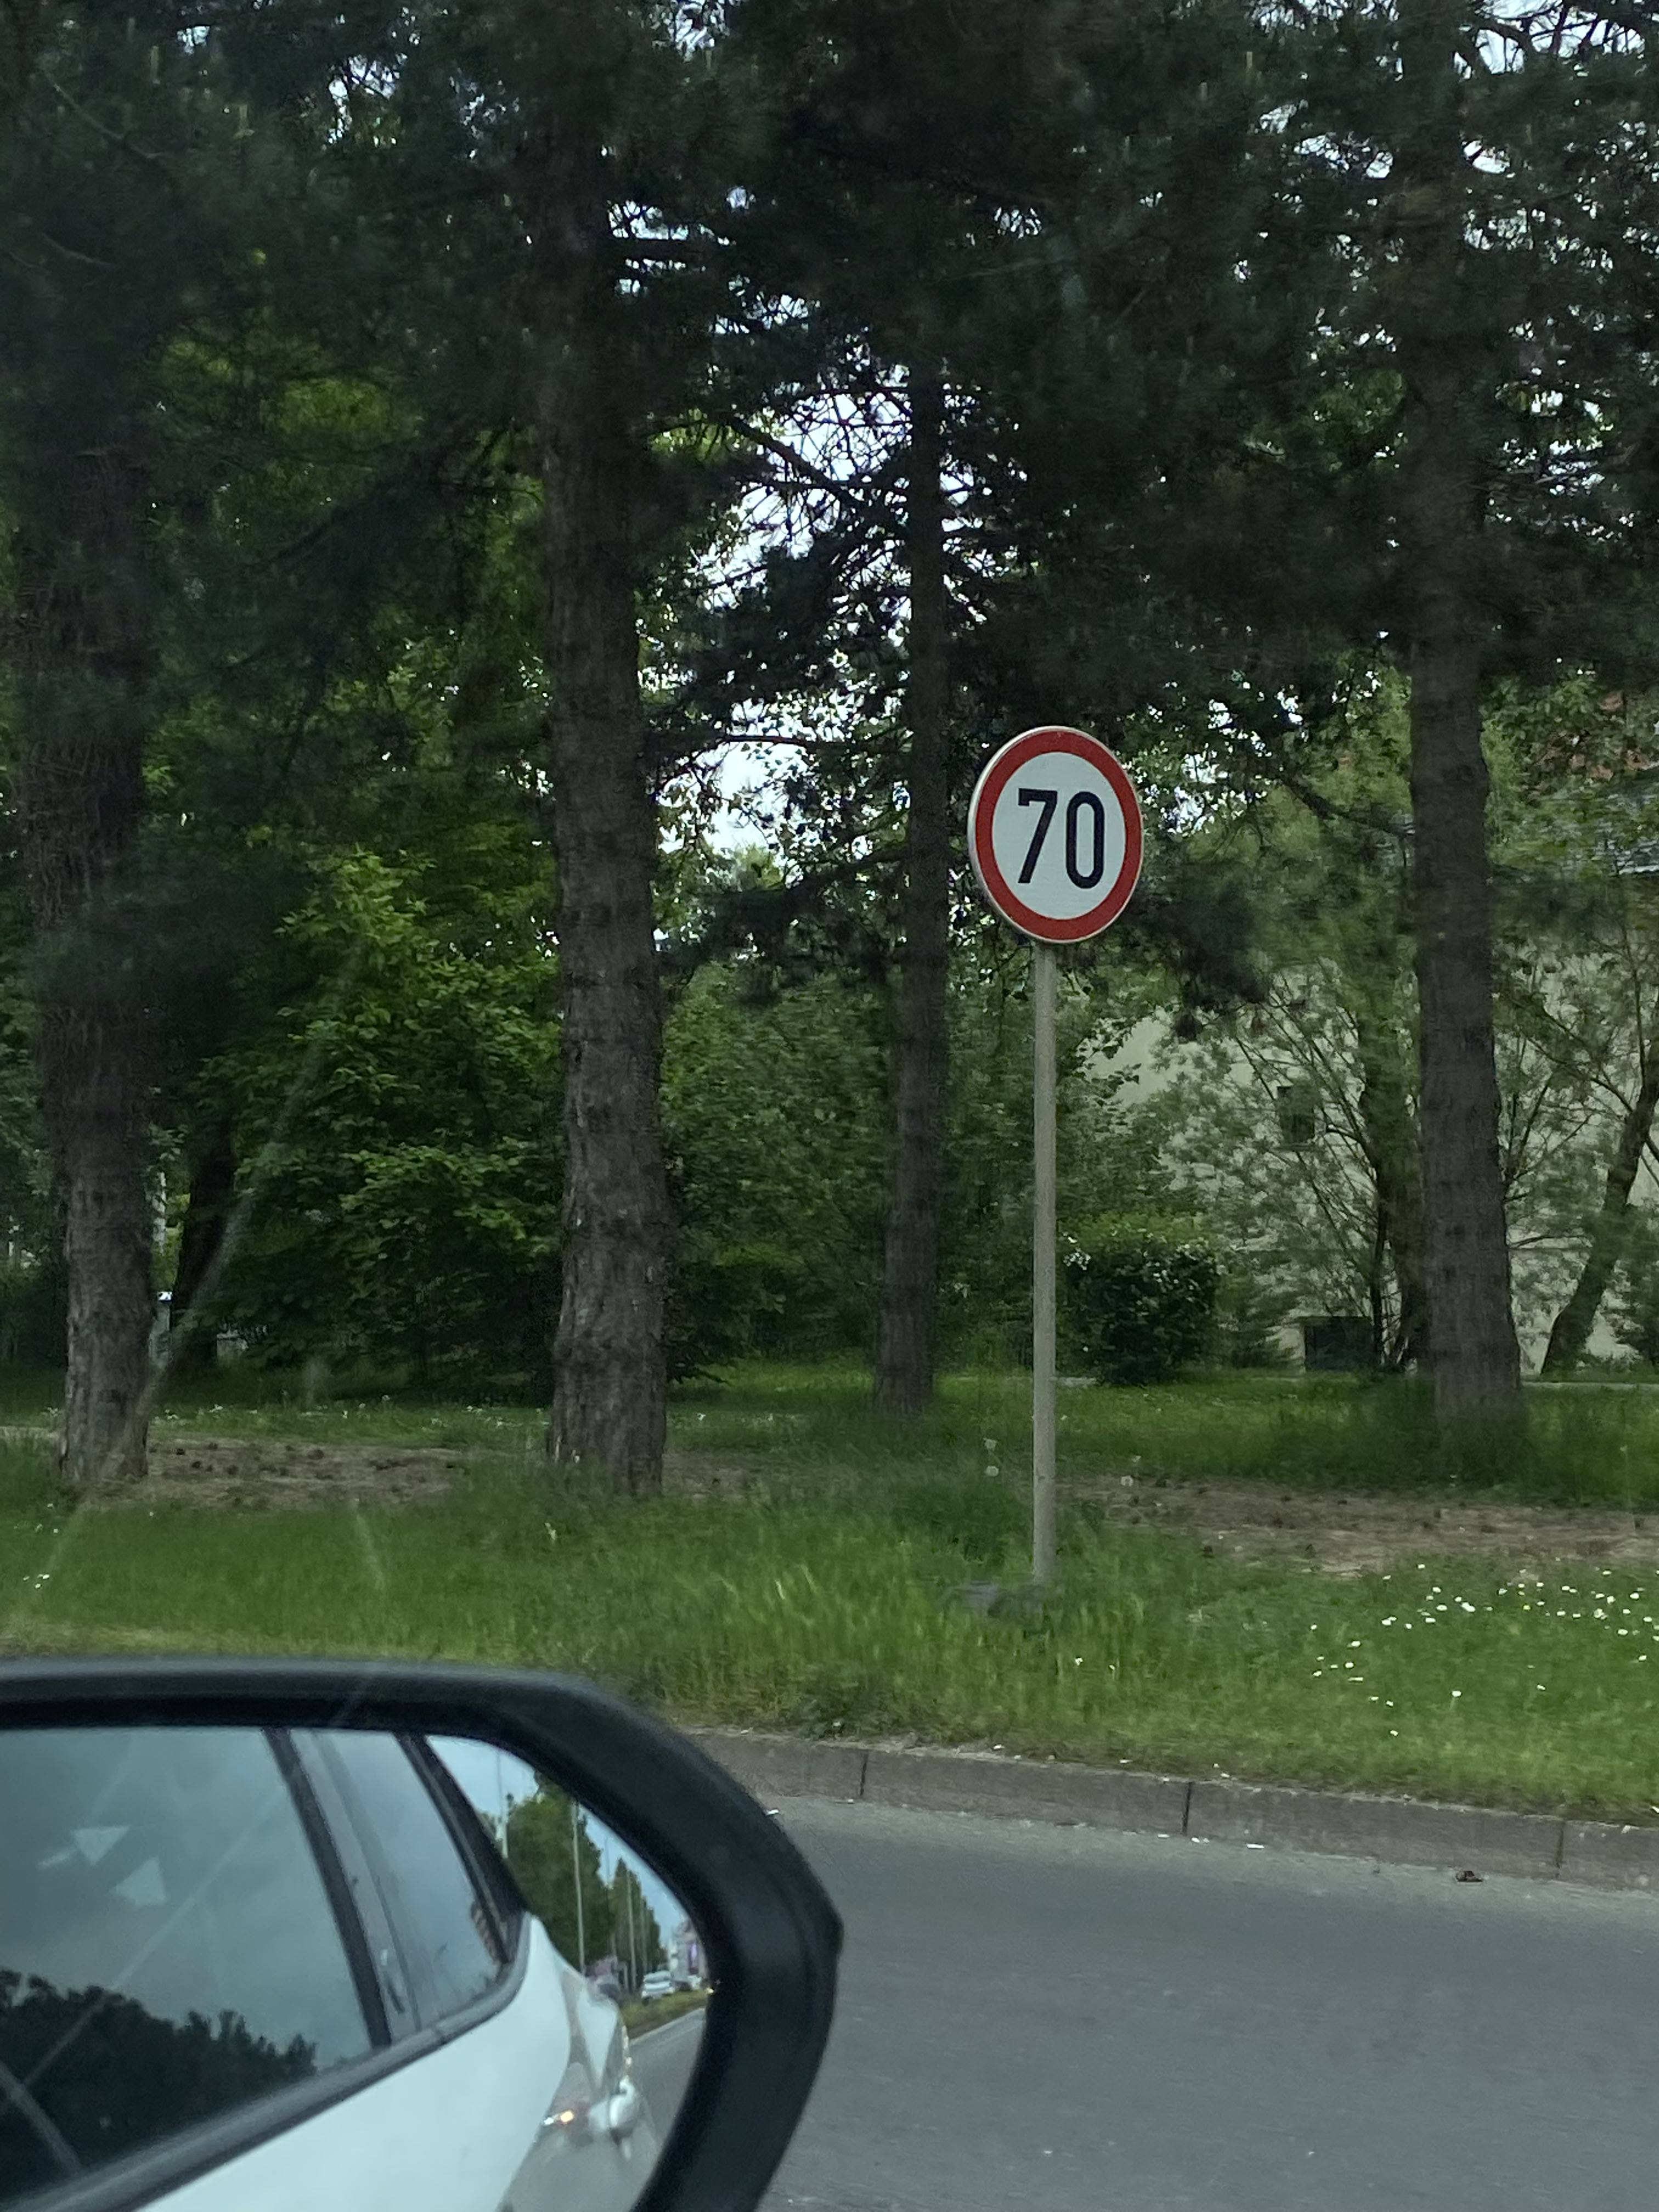Ograničenje brzine 70: (969, 723, 1145, 944)
